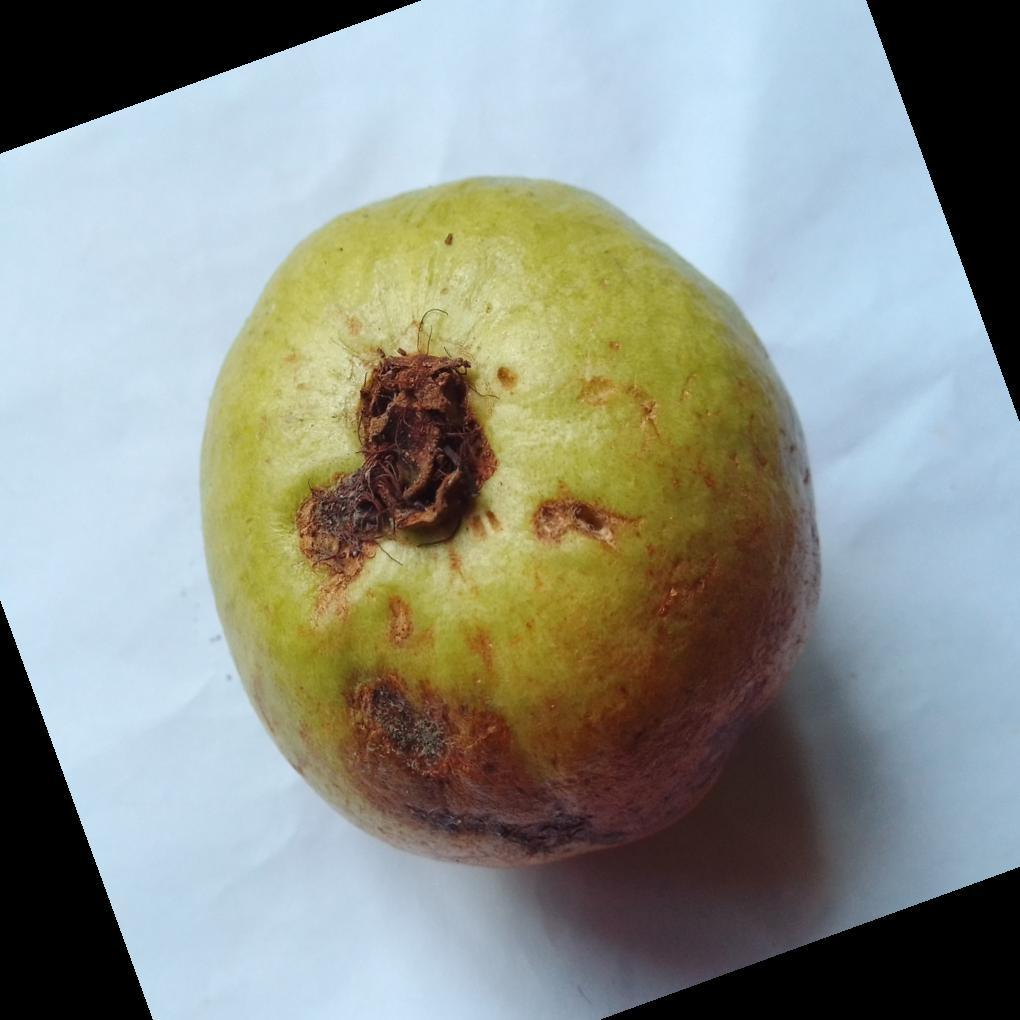FreshOrange: (198, 176, 822, 875)
